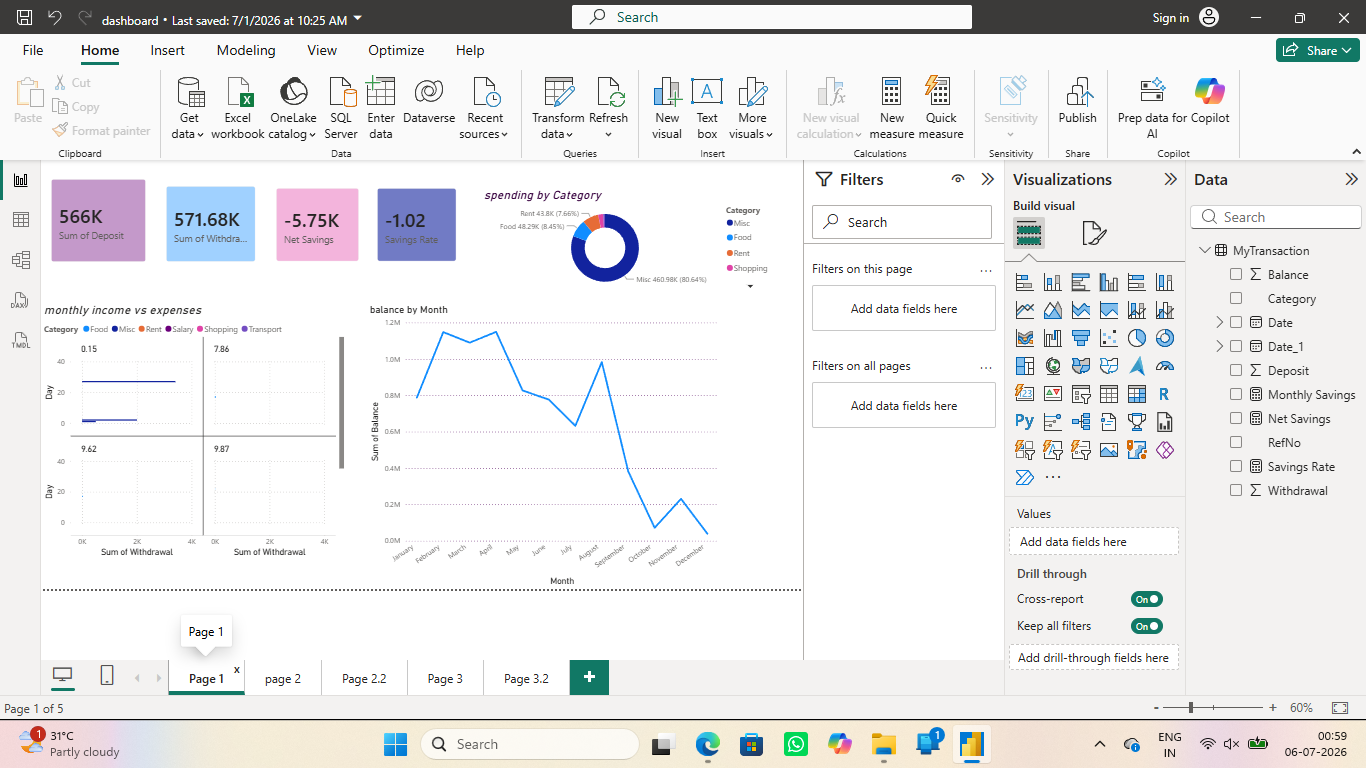

What the dashboard file says about the page in this screenshot:
{"tool":"powerbi","page":{"name":"Page 1","canvas":[1280,720],"ordinal":0},"visuals":[{"type":"cardVisual","fields":{"Data":["Sum(MyTransaction.Deposit)"]},"box":[0,15.1,193.2,173],"z":0},{"type":"cardVisual","fields":{"Data":["Sum(MyTransaction.Withdrawal)"]},"box":[193.2,26.9,184.8,161.3],"z":1000},{"type":"cardVisual","fields":{"Data":["MyTransaction.Net Savings"]},"box":[378,30.2,173,157.9],"z":2000},{"type":"cardVisual","fields":{"Data":["MyTransaction.Savings Rate"]},"box":[547.6,30.2,168,157.9],"z":3000},{"type":"barChart","title":"monthly income vs expenses","fields":{"Series":["MyTransaction.Category"],"Rows":["MyTransaction.Balance"],"Category":["MyTransaction.Date.Variation.Date Hierarchy.Day"],"Y":["Sum(MyTransaction.Withdrawal)"]},"box":[0,240.2,514,433.4],"z":4000},{"type":"donutChart","title":"spending  by Category","fields":{"Category":["MyTransaction.Category"],"Y":["Sum(MyTransaction.Withdrawal)"]},"box":[739.1,47,495.5,178.1],"z":5000},{"type":"lineChart","title":"balance by Month","fields":{"Category":["MyTransaction.Date_1.Variation.Date Hierarchy.Month"],"Y":["Sum(MyTransaction.Balance)"]},"box":[547.6,240.2,594.6,480.4],"z":6000}]}

Visuals, with their boxes on the page's 1280x720 design canvas (x1, y1, x2, y2). These are canvas units, not pixel positions in the 1366x768 screenshot, which may show the page scaled, cropped or inside an application window:
cardVisual - Sum(MyTransaction.Deposit): region(0, 15, 193, 188)
cardVisual - Sum(MyTransaction.Withdrawal): region(193, 27, 378, 188)
cardVisual - MyTransaction.Net Savings: region(378, 30, 551, 188)
cardVisual - MyTransaction.Savings Rate: region(548, 30, 716, 188)
"monthly income vs expenses" barChart: region(0, 240, 514, 674)
"spending  by Category" donutChart: region(739, 47, 1235, 225)
"balance by Month" lineChart: region(548, 240, 1142, 721)
